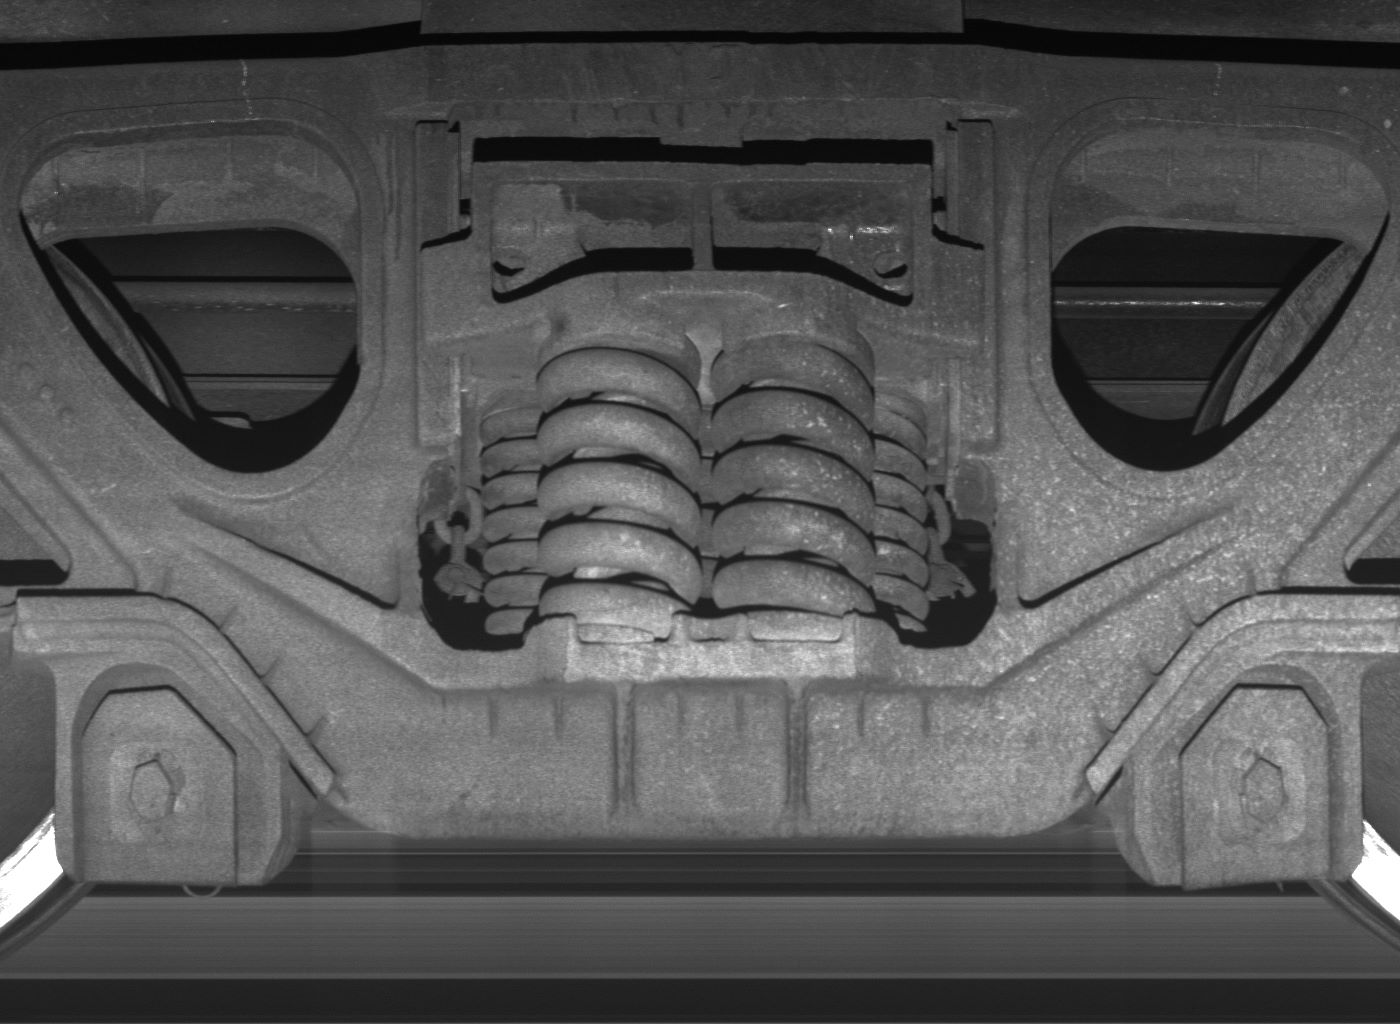normal: (55, 661, 280, 887), (1135, 666, 1362, 890)
